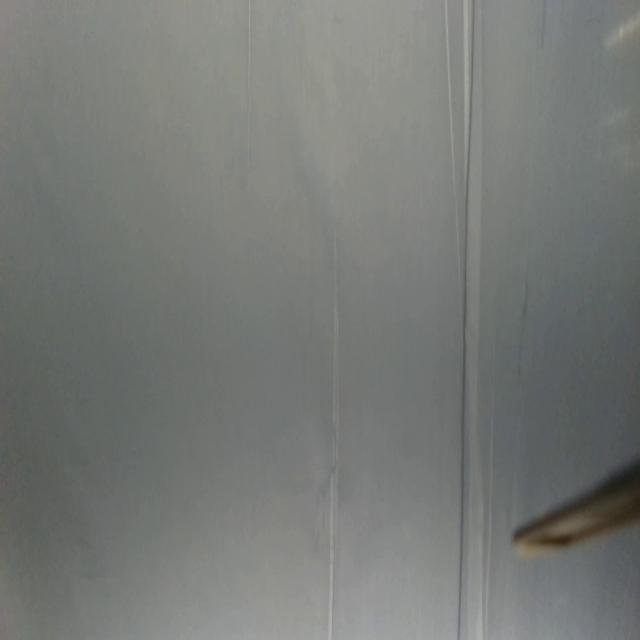crease: (451, 4, 480, 640), (324, 227, 342, 640), (442, 0, 464, 324), (482, 401, 498, 640), (243, 1, 256, 200)
